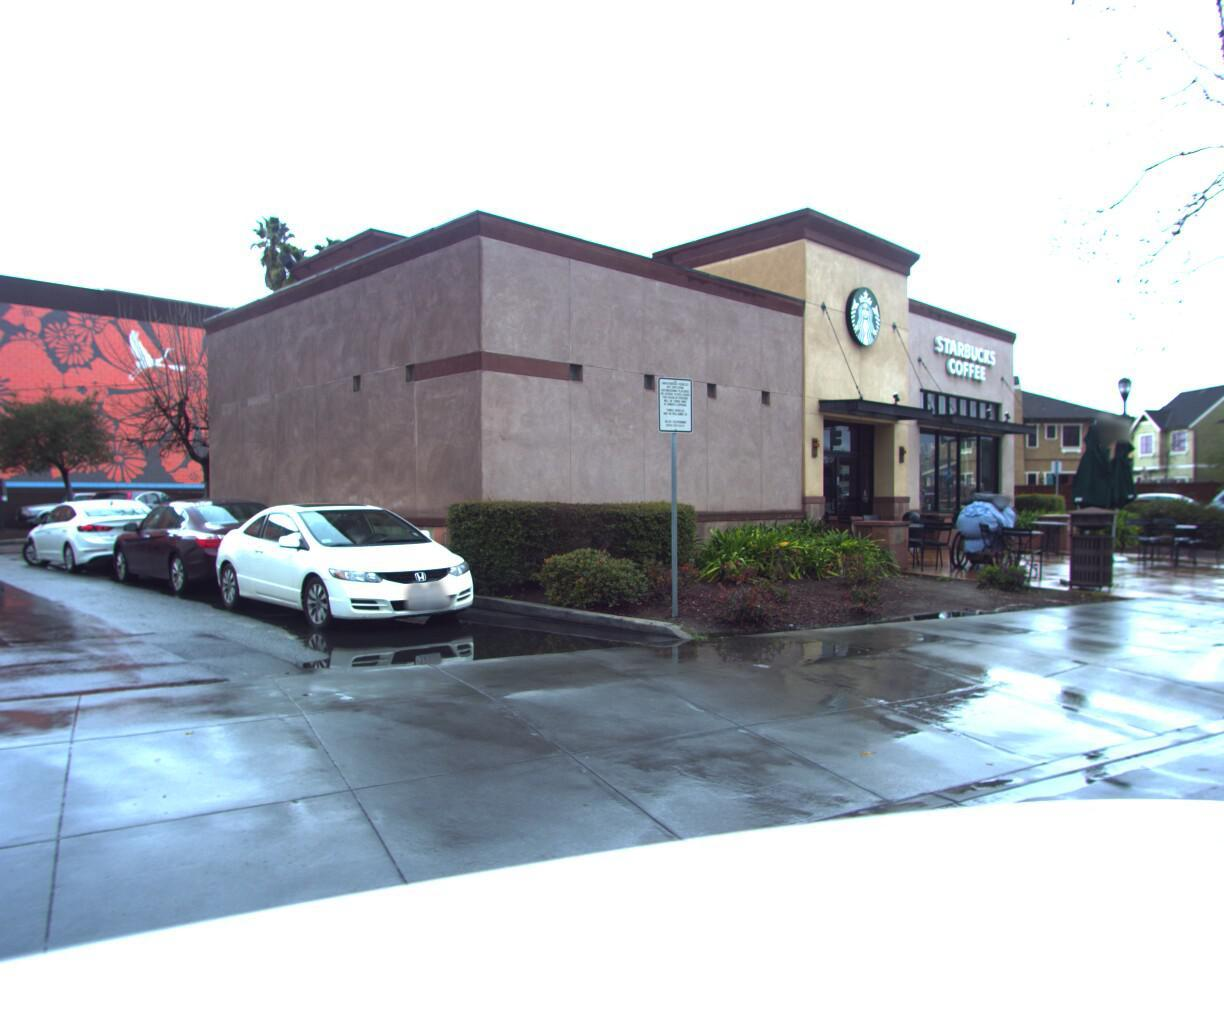car: (190, 496, 495, 642), (1186, 481, 1224, 535)
